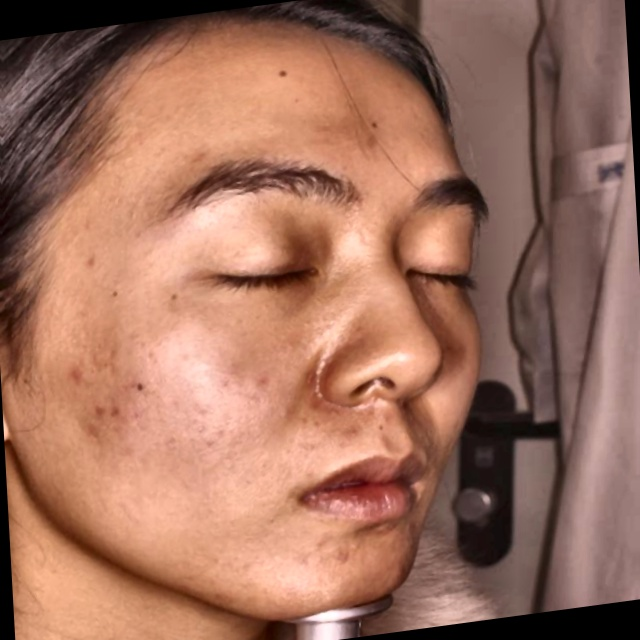comedone: (65, 355, 100, 391)
